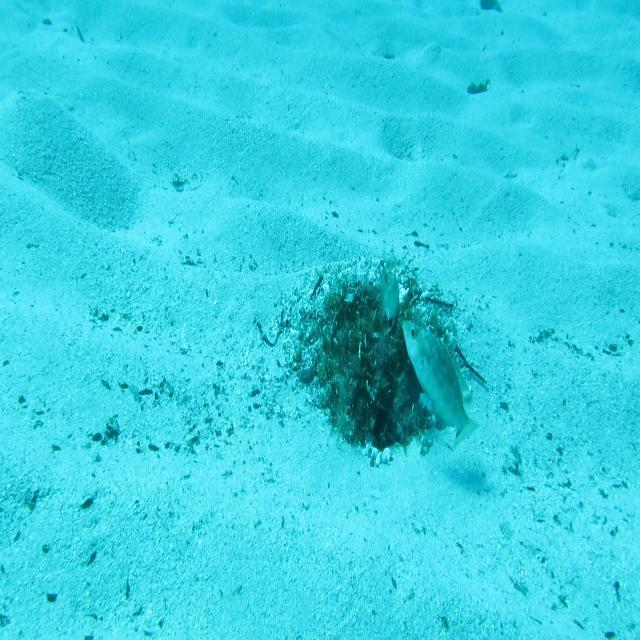GB: (400, 318, 481, 453)
core_nest: (348, 298, 400, 350)
female: (374, 262, 400, 331)
nest: (265, 248, 475, 489)
vegetation: (462, 77, 492, 96), (477, 0, 504, 15)
